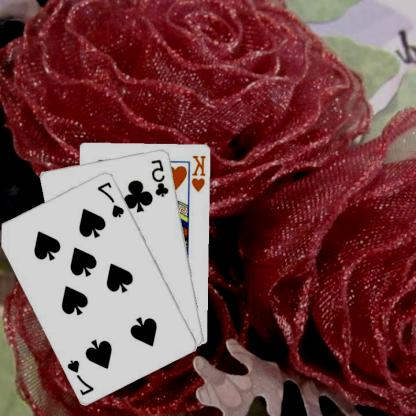5C: (150, 156, 172, 198)
7S: (97, 178, 127, 219), (67, 356, 97, 396)
KH: (191, 153, 209, 193)
